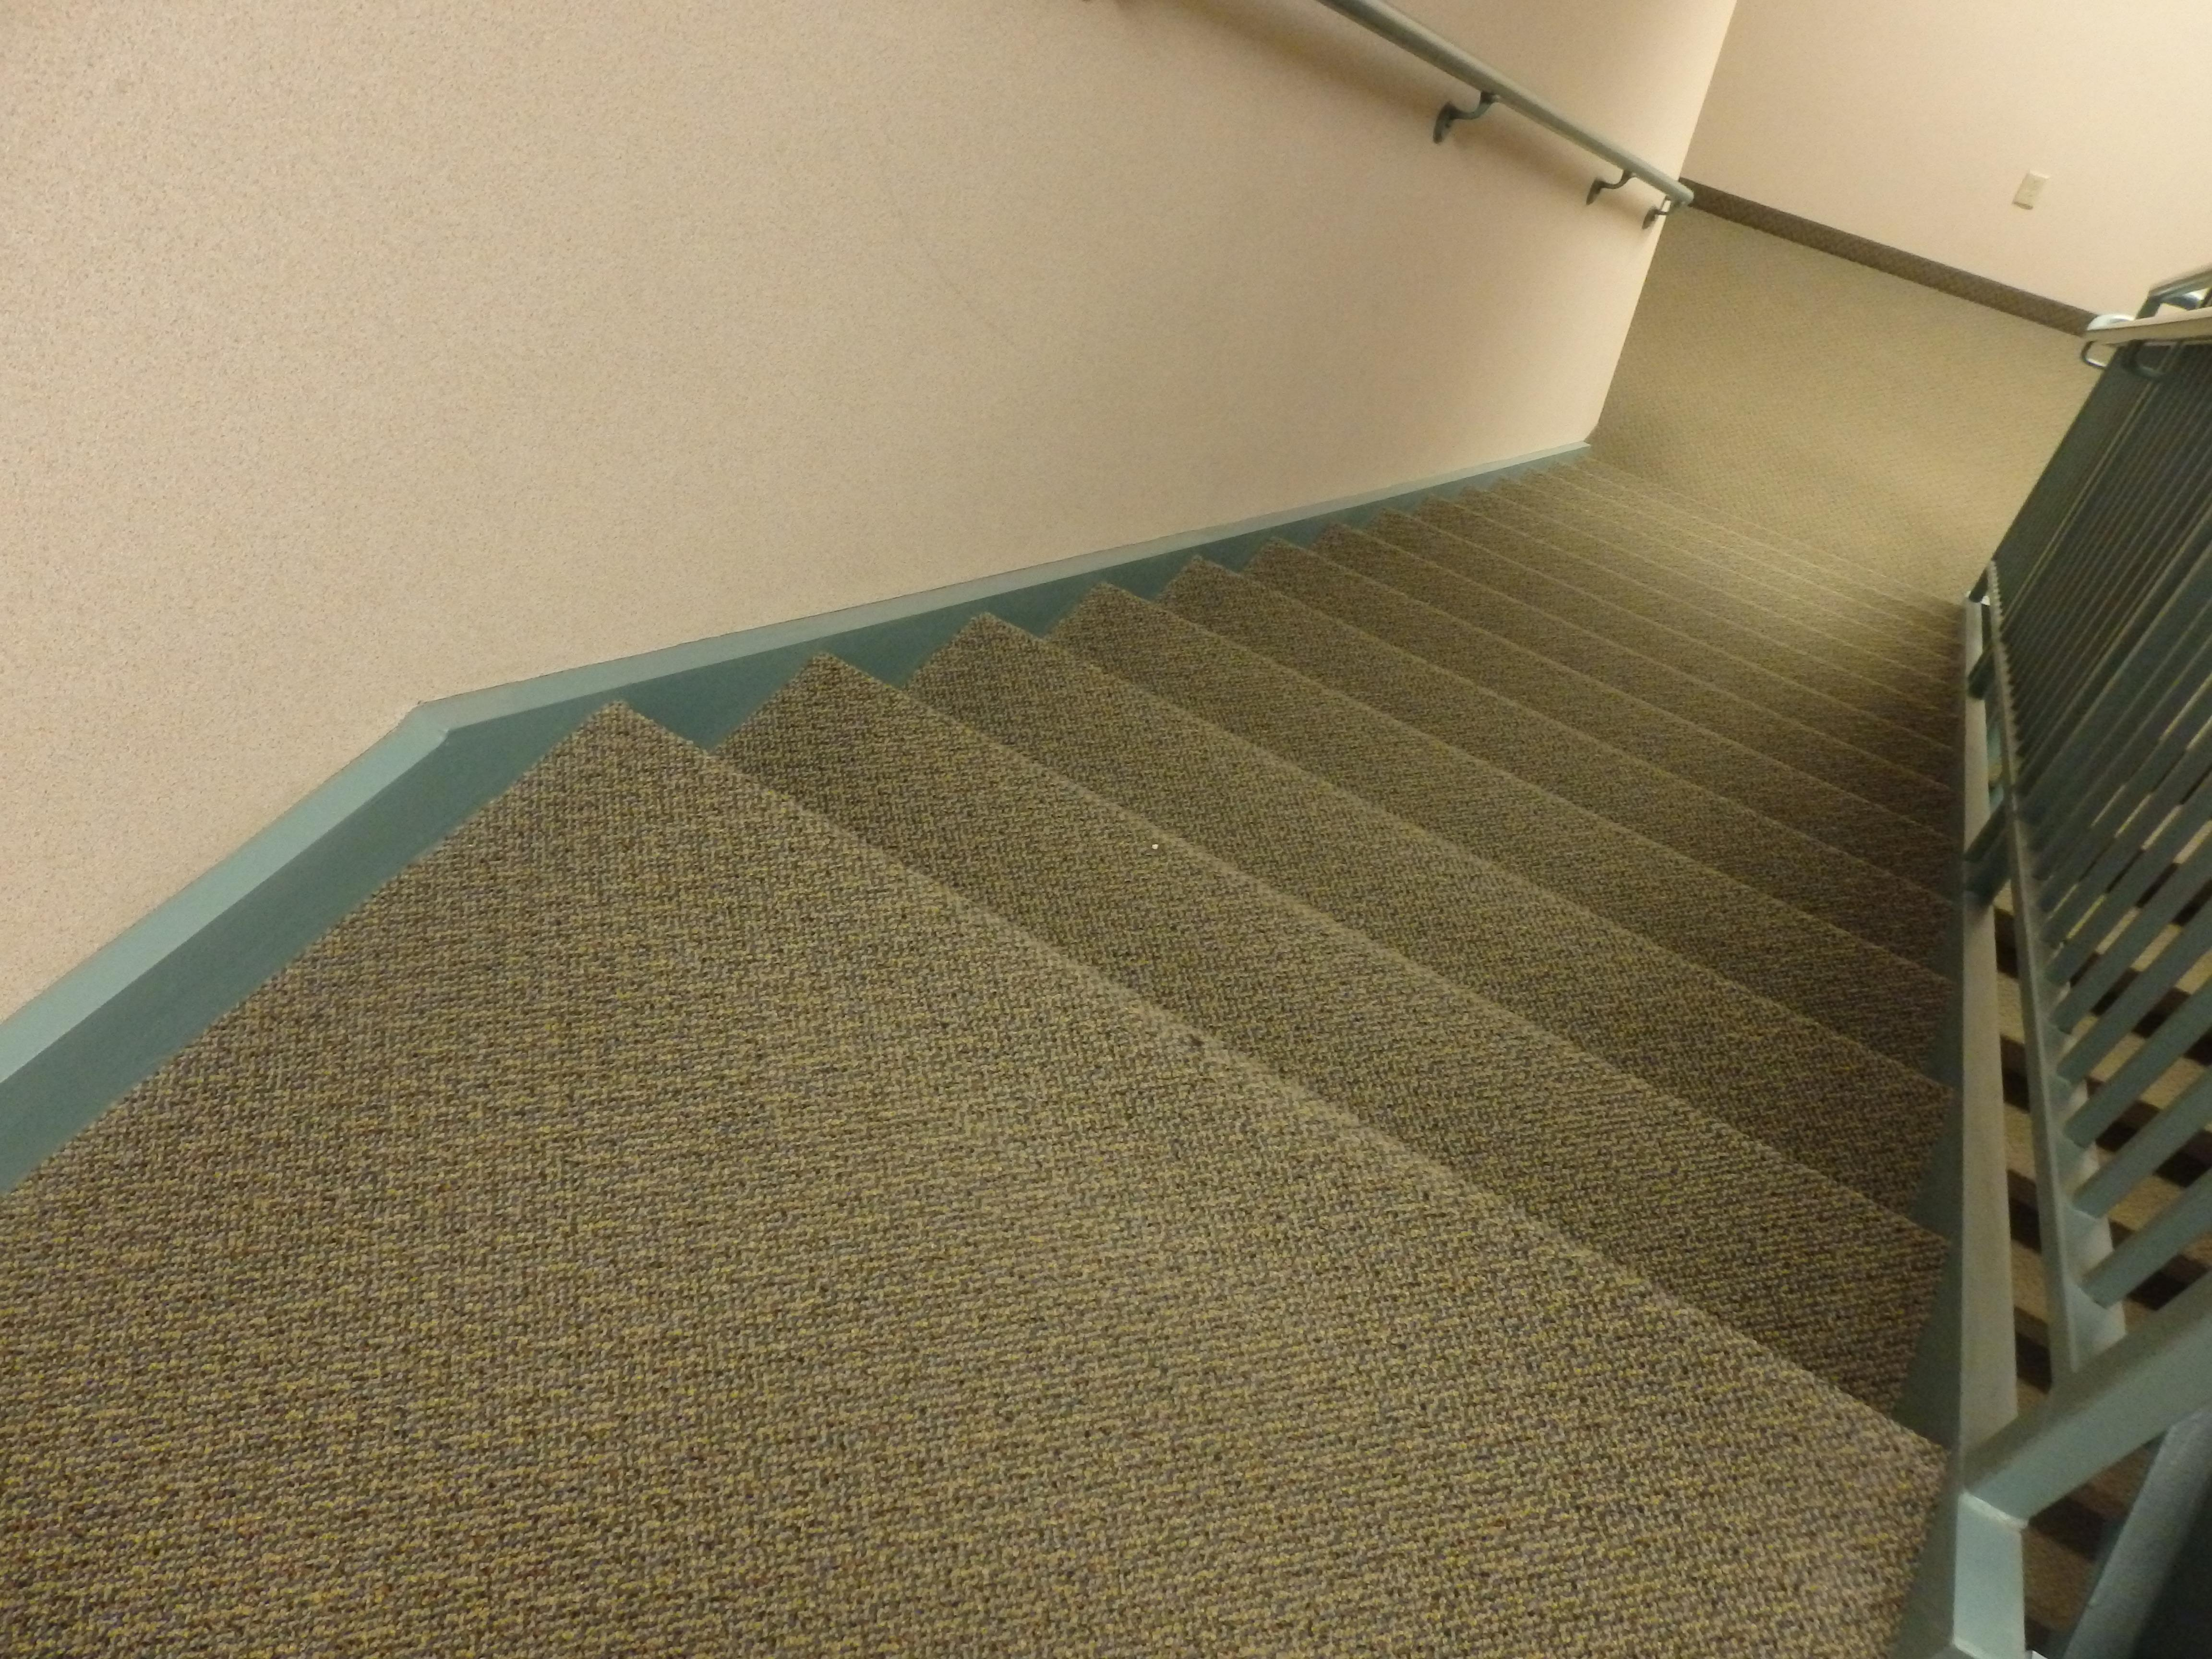stairs_down: (625, 422, 2066, 1302)
